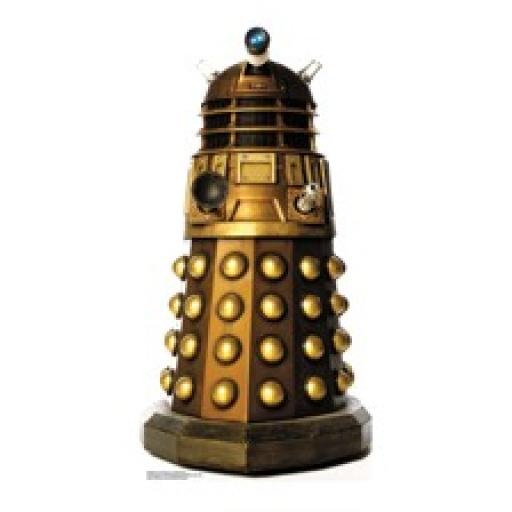dalek: (124, 21, 380, 477)
